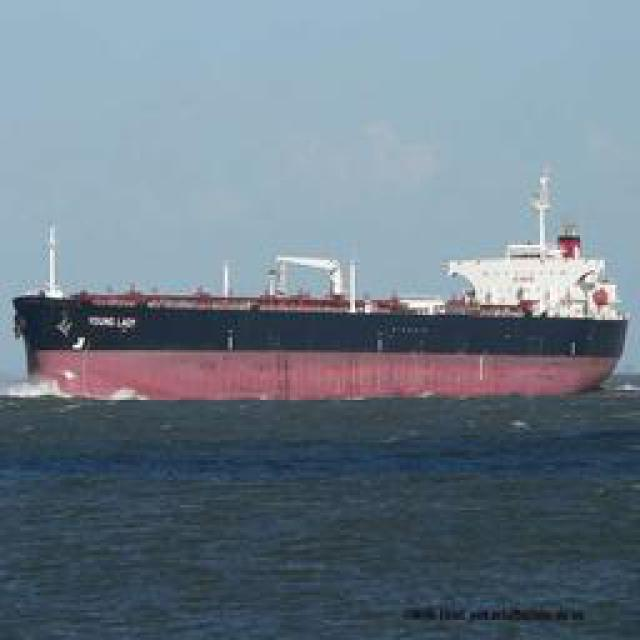Ship: (20, 174, 630, 404)
